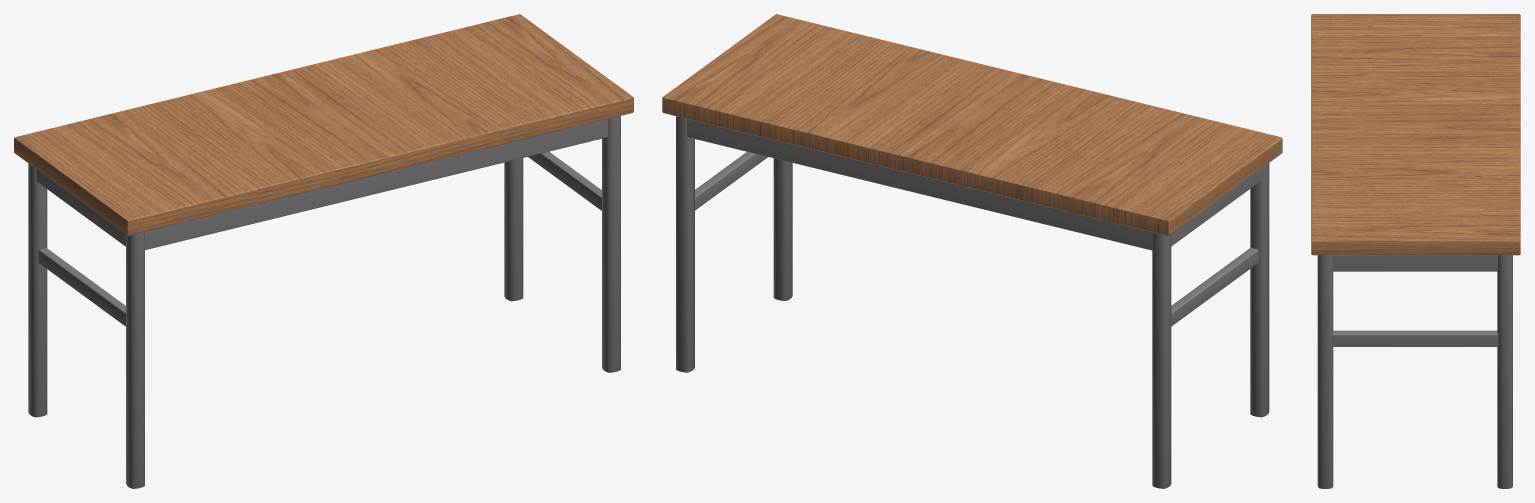
The model's file is SM_table_02.fbx.
3 views of the same model, side by side, from view 1: azimuth 30°, elevation 25°; view 2: azimuth 150°, elevation 25°; view 3: azimuth 270°, elevation 25° (orthographic). The views are drawn at different scales.
Parts seen in each view (by area): view 1: table05; view 2: table05; view 3: table05.
Boxes of the visible parts, <box> form: table05: <box>14,14,633,488</box>; table05: <box>662,14,1282,488</box>; table05: <box>1311,14,1520,488</box>.
Size of the model in its own units: 71.72 by 37.05 by 27.95.
Materials: 2 (1 with a texture image).
